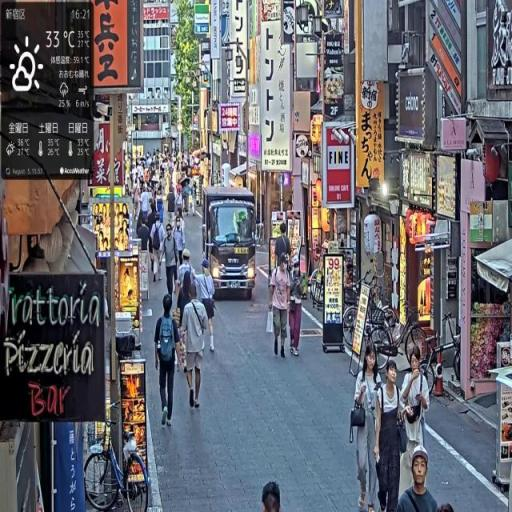person: (347, 342, 385, 512), (375, 355, 408, 512), (401, 345, 432, 512), (152, 293, 184, 427), (181, 287, 210, 410), (395, 444, 444, 512), (269, 253, 290, 360), (288, 262, 308, 357), (197, 260, 217, 353), (160, 224, 180, 304), (176, 248, 198, 312), (274, 224, 293, 280), (152, 215, 166, 284), (173, 217, 186, 270), (137, 218, 151, 255), (166, 187, 177, 230), (139, 186, 151, 222), (174, 189, 185, 226), (156, 189, 167, 224)
